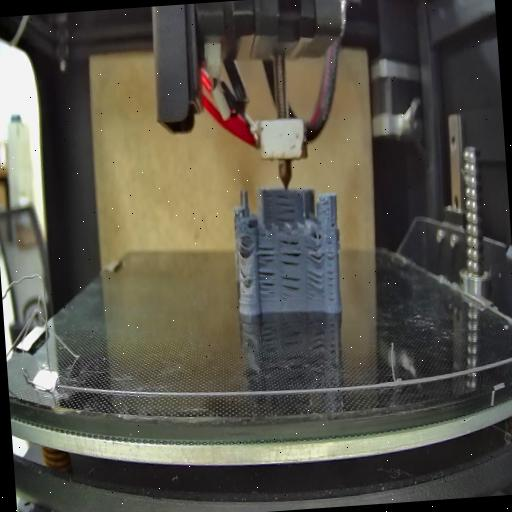cracks: (272, 194, 298, 224), (325, 248, 338, 304), (278, 238, 302, 268), (278, 274, 302, 300), (258, 270, 276, 298), (257, 242, 277, 265), (306, 270, 324, 294), (306, 244, 324, 264), (237, 239, 253, 260), (238, 270, 250, 290), (328, 212, 337, 230)
